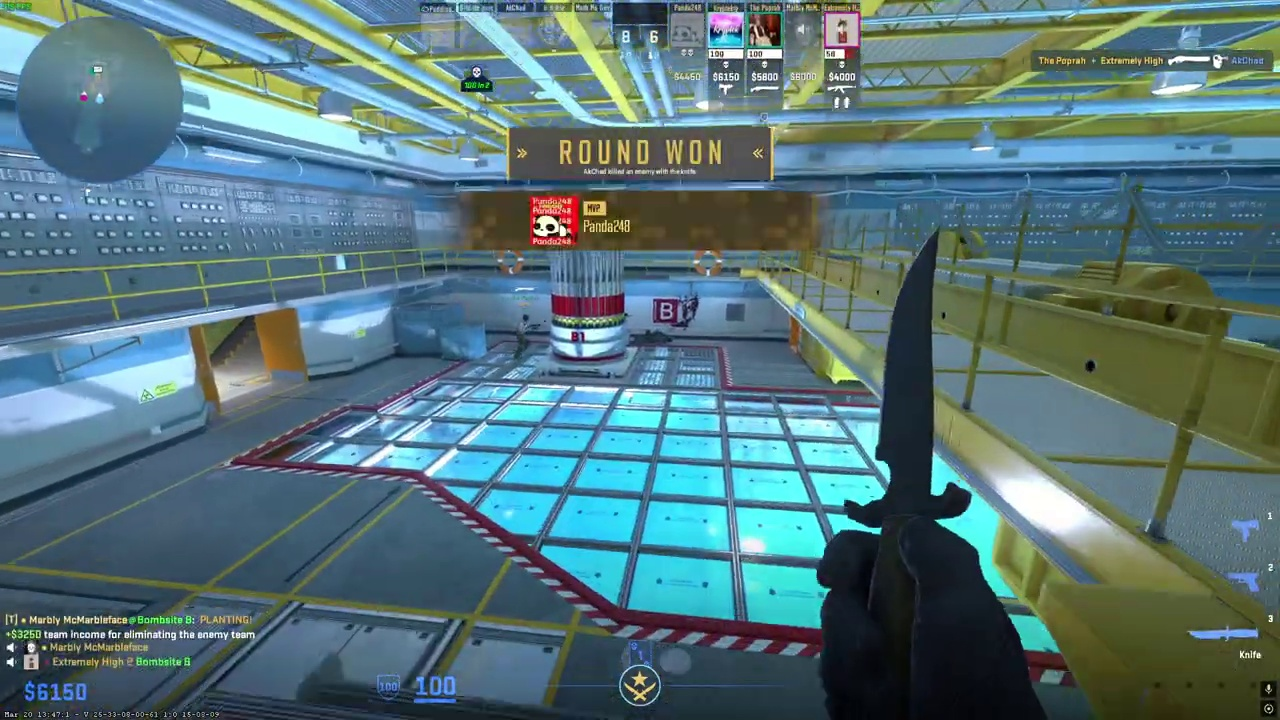Terrorist: (511, 313, 534, 361)
